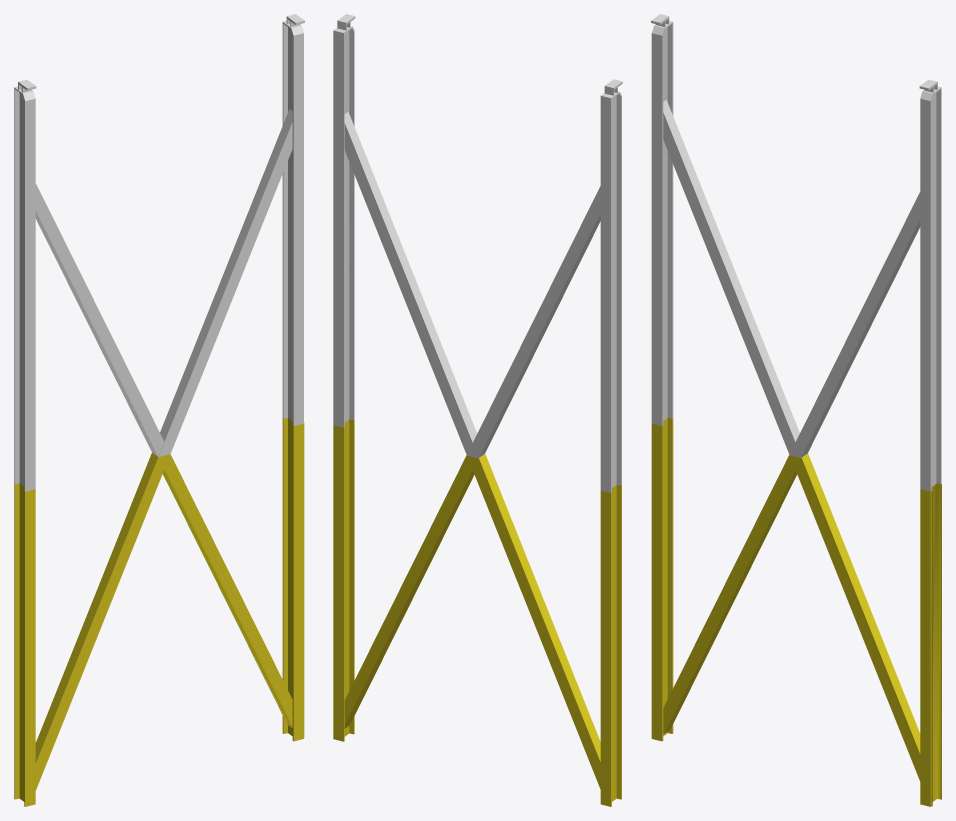
Rendered from truss-norail.fbx.
3 views of the same model, side by side, from view 1: azimuth 30°, elevation 25°; view 2: azimuth 150°, elevation 25°; view 3: azimuth 330°, elevation 25° (orthographic).
Visible parts, largest first — view 1: truss.044; view 2: truss.044; view 3: truss.044.
Boxes of the visible parts, left/top/right/bottom form: truss.044: left=14, top=14, right=304, bottom=806; truss.044: left=333, top=14, right=622, bottom=806; truss.044: left=651, top=14, right=941, bottom=806.
Size of the model in its own units: 515 by 1264 by 39.55.
